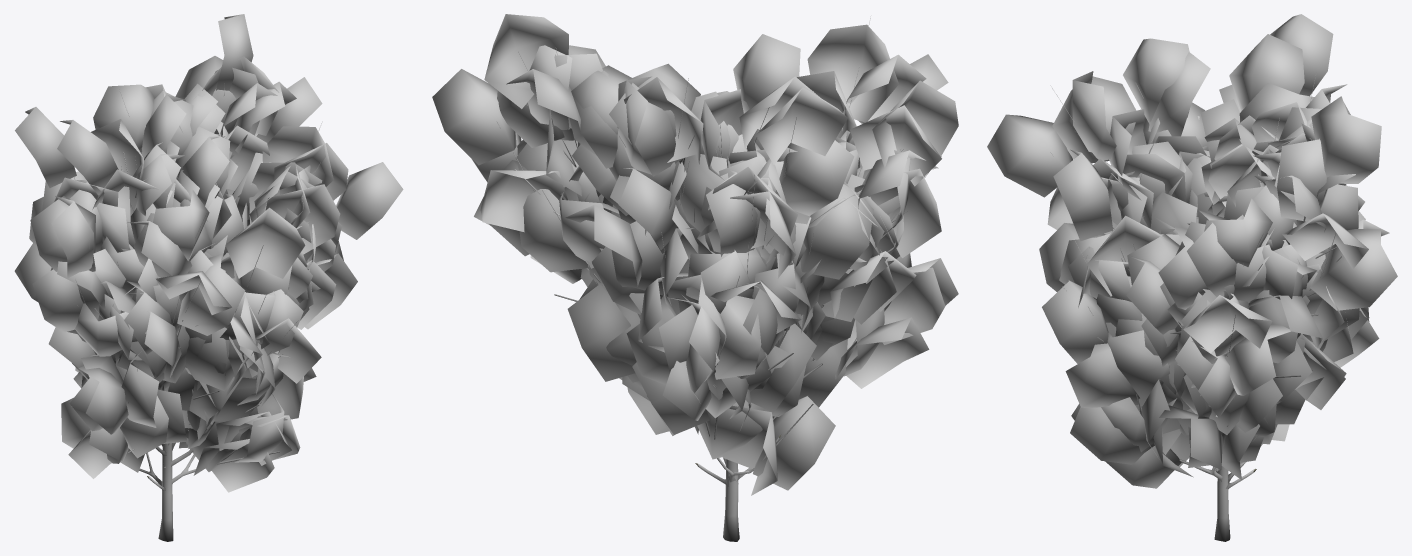
The model's file is BeechEuropean_C.fbx.
3 renders of one model, left to right at view 1: azimuth 30°, elevation 25°; view 2: azimuth 150°, elevation 25°; view 3: azimuth 270°, elevation 25°, orthographic. The views are drawn at different scales.
Parts seen in each view (by area): view 1: BeechEuropean_C_LOD0; view 2: BeechEuropean_C_LOD0; view 3: BeechEuropean_C_LOD0.
Part boxes in pixels (x1,y1,x2,y2): BeechEuropean_C_LOD0: [14, 14, 403, 541]; BeechEuropean_C_LOD0: [432, 14, 958, 541]; BeechEuropean_C_LOD0: [987, 14, 1397, 541].
Bounding box in the file's own units: 1655 × 1877 × 1401.
